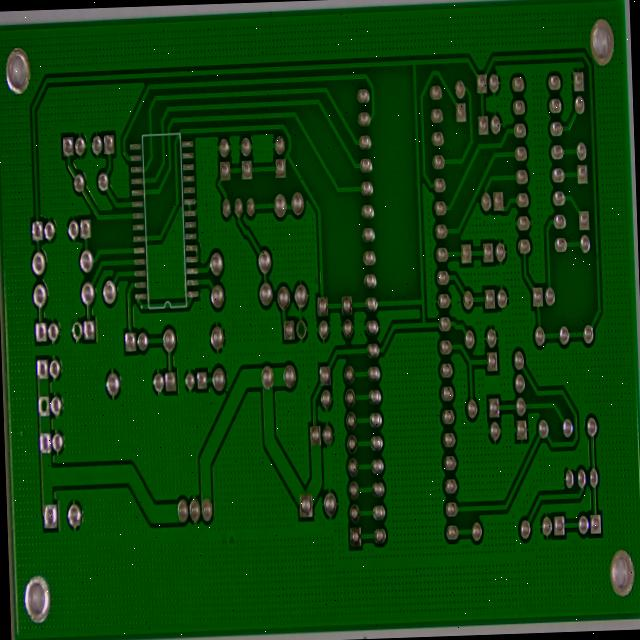missing_hole: (38, 384, 52, 412), (296, 306, 309, 334), (71, 309, 83, 336)
